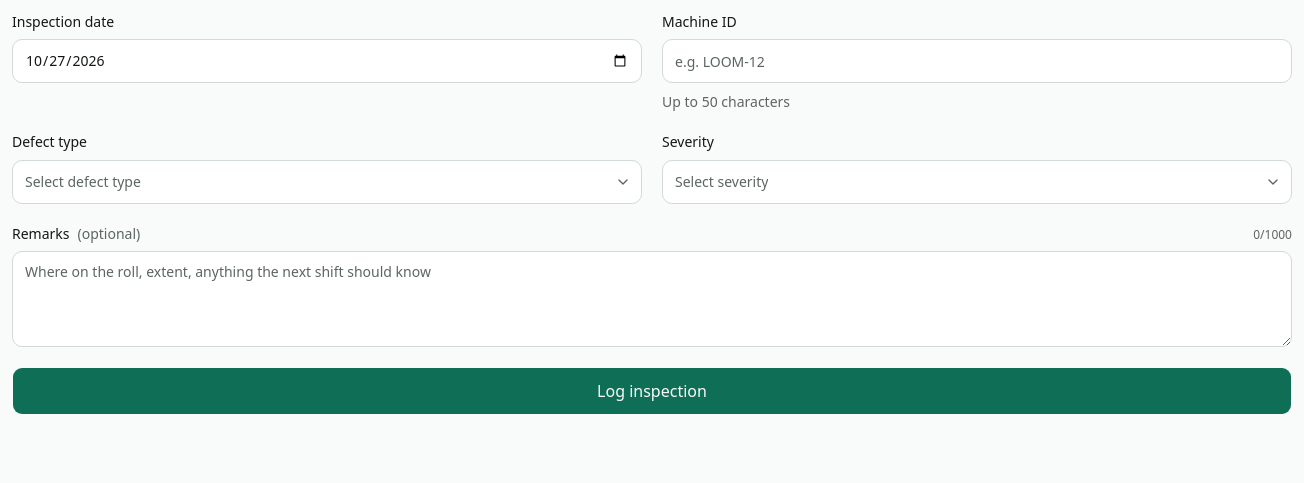
InspectionForm › shows required-field errors and does not submit when empty
The width and height of the screenshot is (1304, 483).
Click the button "Log inspection" at (652, 391), box [12,367,1292,415]
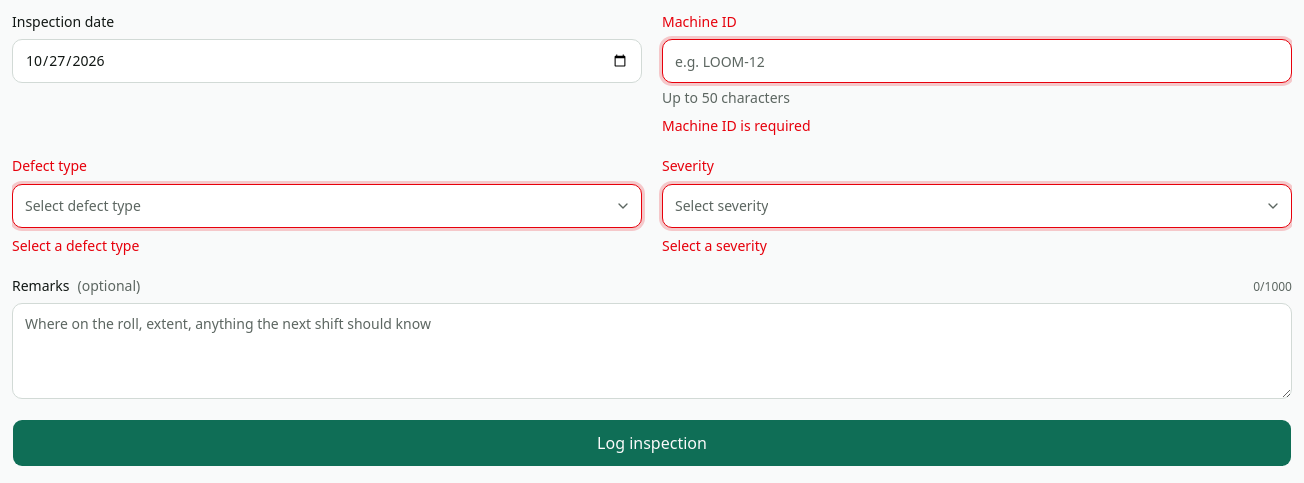
Expected: the text "Machine ID is required" is shown, [662,116,811,135]
Expected: the text "Select a defect type" is shown, [12,236,139,254]
Expected: the text "Select a severity" is shown, [662,236,767,254]
